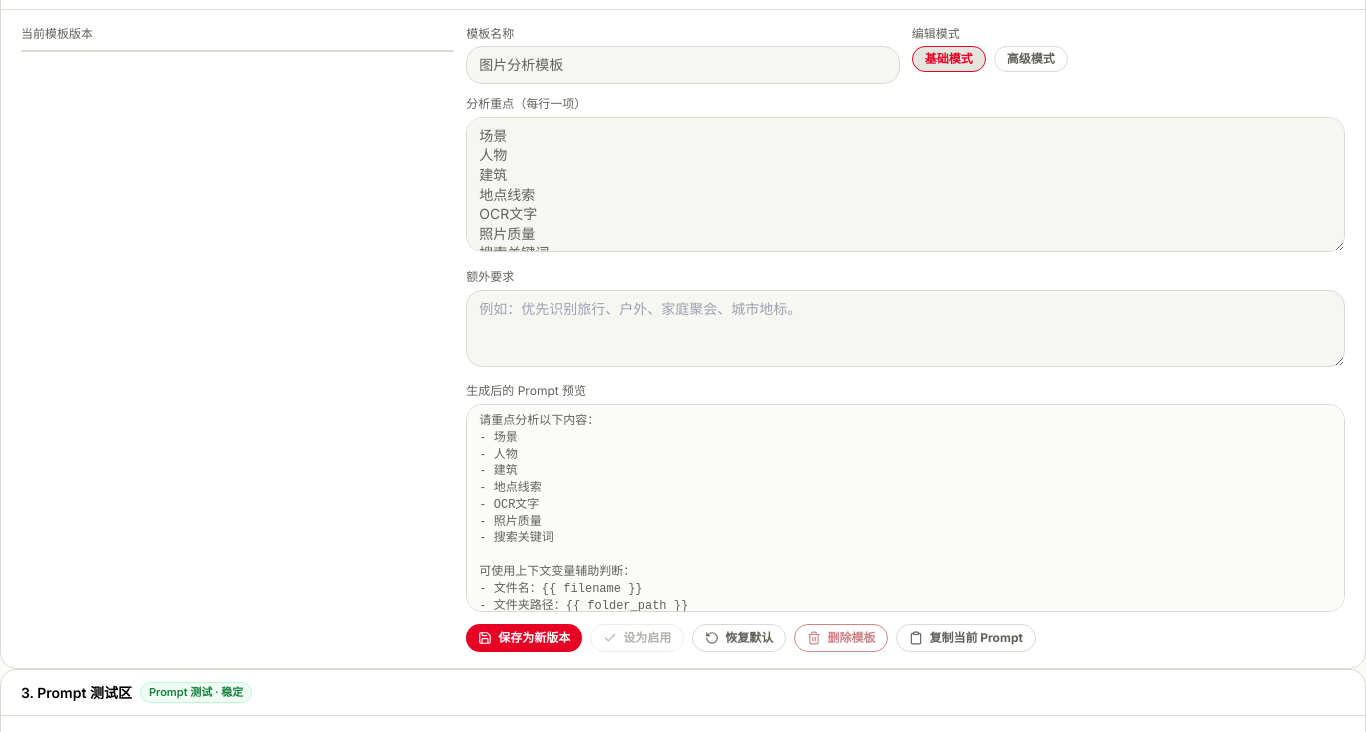
PromptSettingsSection › saves prompt then runs prompt test successfully
Click the button "保存为新版本" at {"x": 524, "y": 638}, box [466, 624, 582, 652]
(page scrolled)
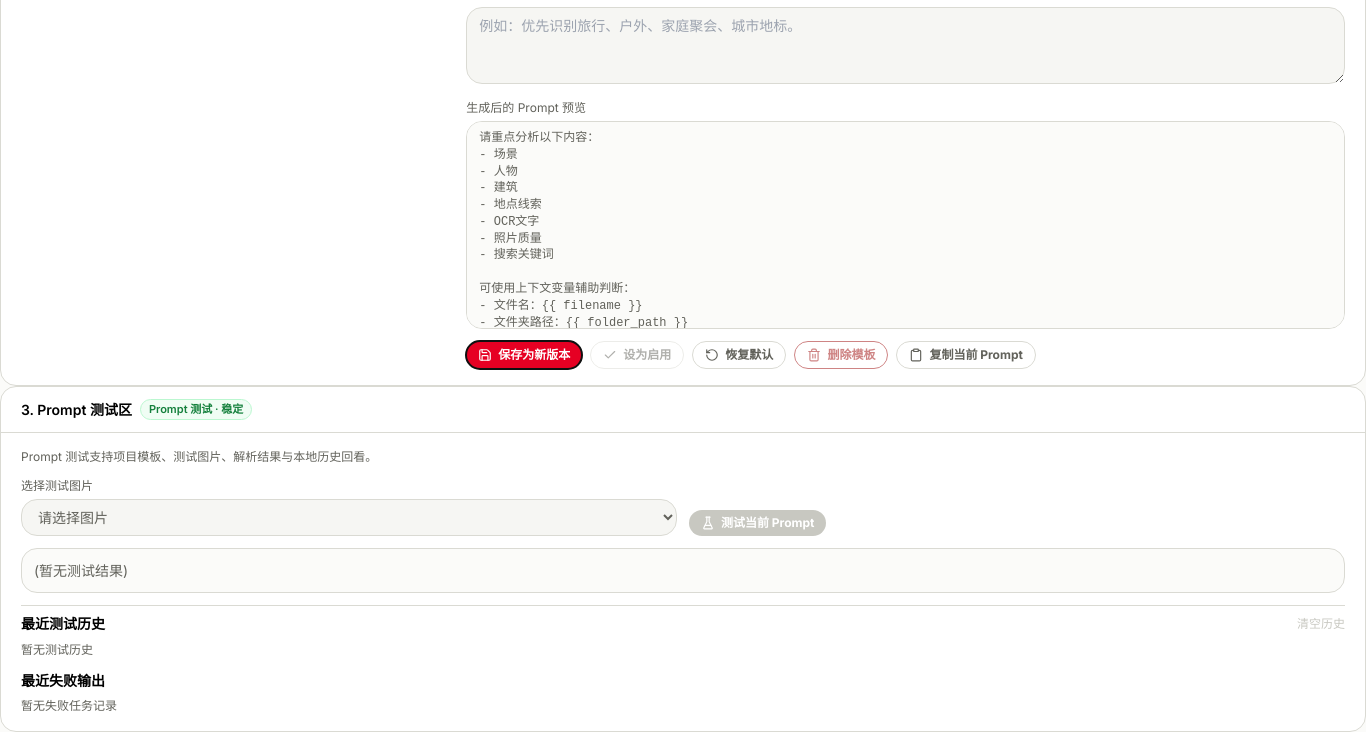
Select "#902 · chain.jpg" in the dropdown at {"x": 349, "y": 517}, box [21, 499, 677, 536]
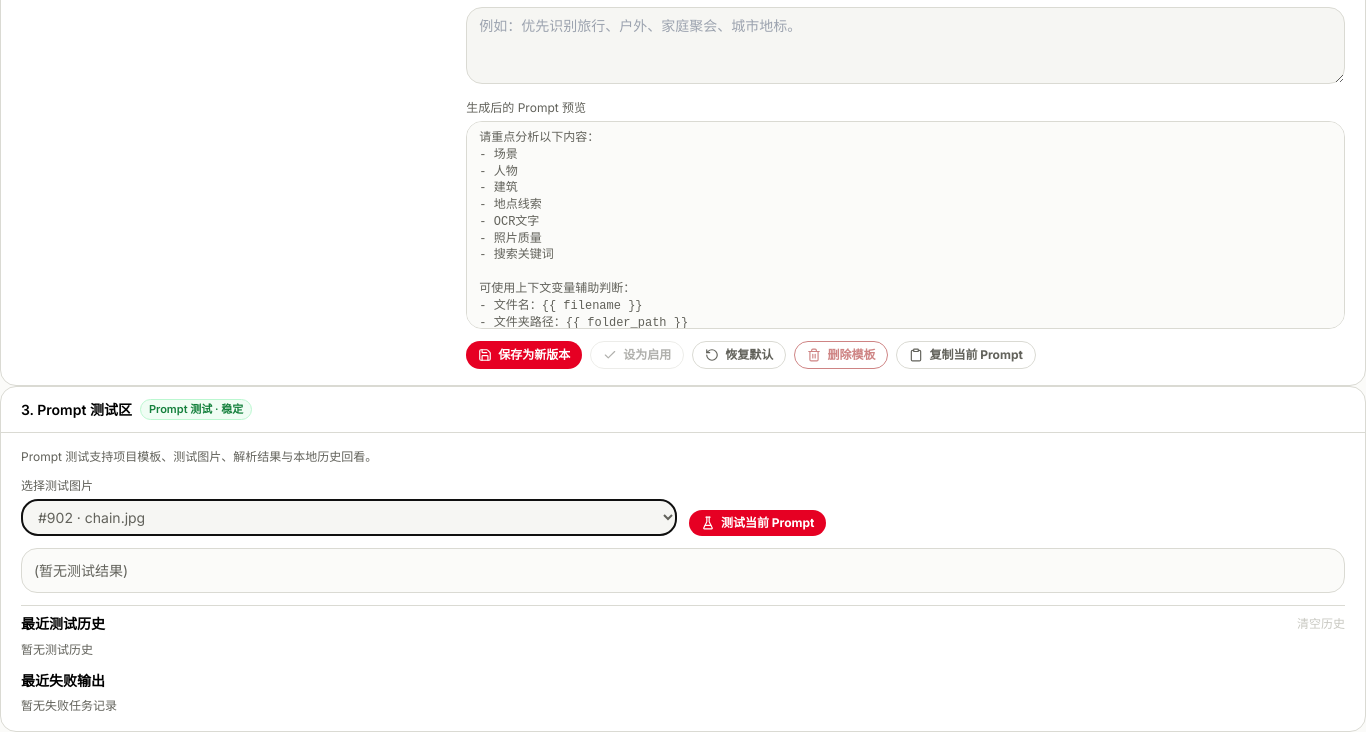
Click the button "测试当前 Prompt" at {"x": 758, "y": 523}, box [689, 510, 826, 536]
(page scrolled)
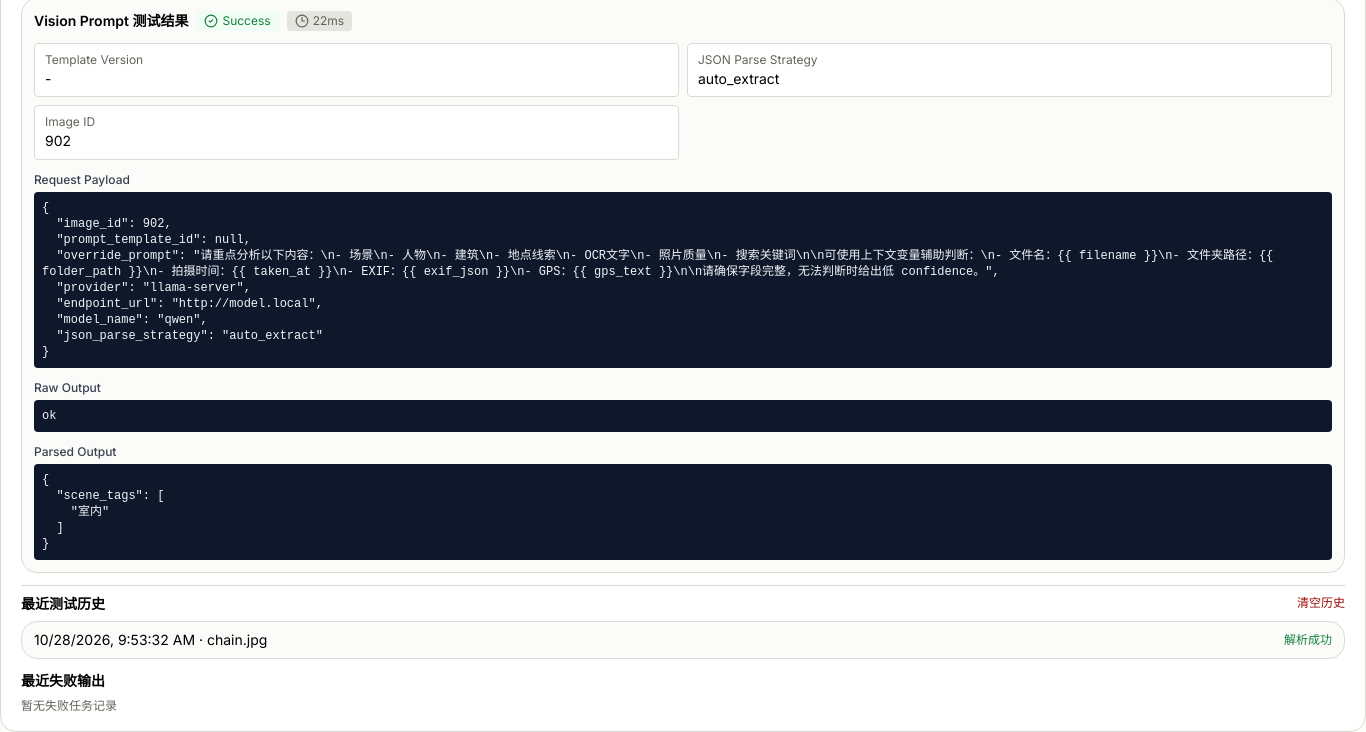
Check: the text "解析成功" is shown, box [1284, 632, 1332, 648]
